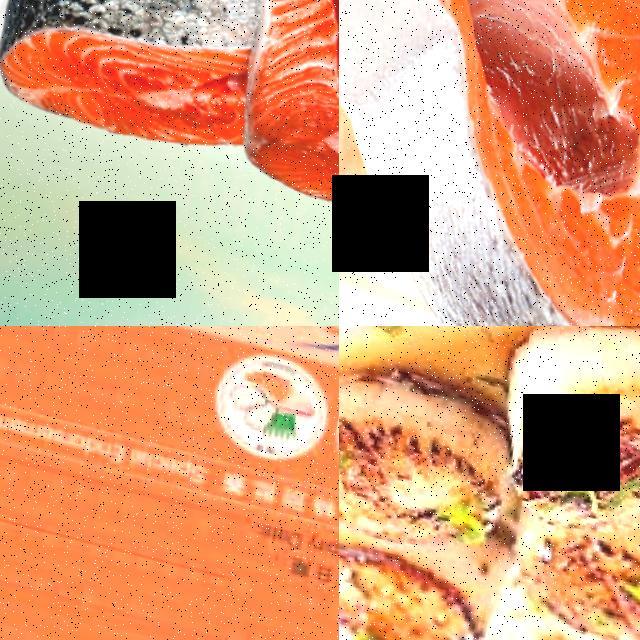salmon: (495, 0, 640, 326), (0, 0, 260, 169), (236, 0, 339, 230)
sea scallops: (339, 366, 513, 566), (494, 326, 640, 551), (339, 517, 509, 640)
